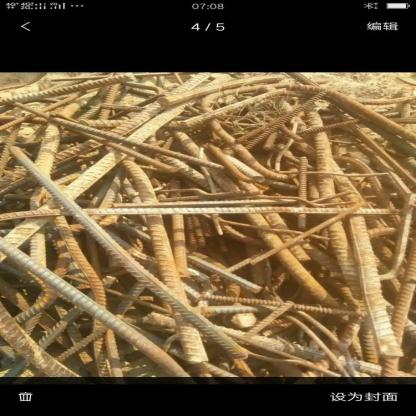rebar: (2, 75, 411, 376)
